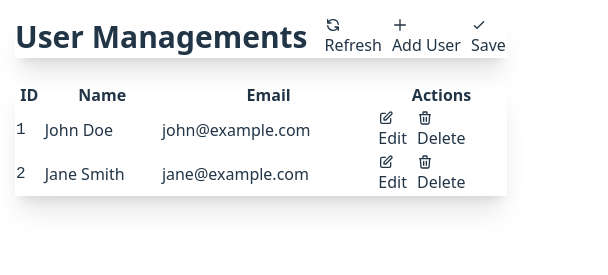
Test case: App Component Tests › Add User button adds a new blank row
Expected: the text "John Doe" is shown, x1=45 y1=119 x2=113 y2=141
Click the button "Add User" at (426, 37), box x1=391 y1=16 x2=462 y2=58
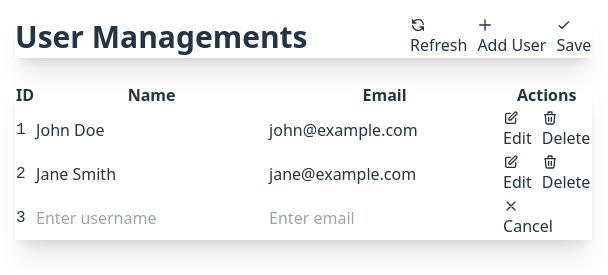
Now the field with placeholder "Enter username" is shown, box x1=36 y1=206 x2=267 y2=230
